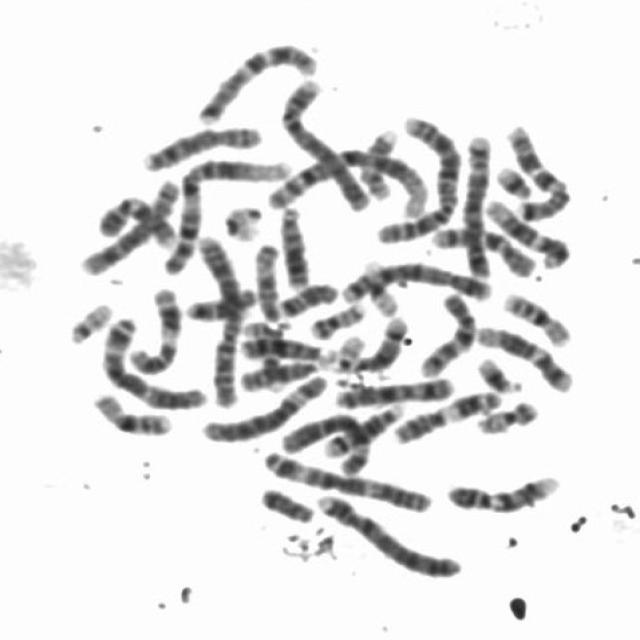A1: (158, 150, 296, 276), (261, 143, 434, 218)
A2: (372, 110, 463, 246), (190, 230, 245, 409)
A3: (256, 444, 434, 514), (95, 311, 212, 411)
B4: (309, 486, 466, 581), (277, 73, 374, 213)
B5: (338, 255, 496, 304), (456, 127, 496, 280)
C10: (426, 219, 538, 278), (412, 286, 480, 378)
C11: (388, 384, 506, 446), (123, 281, 184, 376)
C12: (470, 318, 576, 393), (480, 192, 574, 271)
C6: (194, 368, 330, 444), (275, 408, 372, 478)
C7: (192, 35, 322, 126), (499, 119, 573, 222)
C8: (75, 175, 181, 277), (137, 119, 265, 173)
C9: (441, 468, 564, 516), (92, 191, 180, 248)
D13: (274, 200, 314, 290), (236, 333, 336, 364)
D14: (317, 398, 407, 459), (340, 311, 411, 374)
D15: (234, 353, 323, 393), (249, 238, 285, 323)
E16: (497, 286, 574, 348), (87, 387, 175, 438)
E17: (240, 317, 290, 399), (354, 124, 401, 204)
E18: (182, 282, 260, 323), (271, 276, 340, 318)
F19: (359, 255, 403, 318), (217, 198, 265, 244)
F20: (473, 394, 542, 436), (305, 296, 368, 340)
G21: (471, 351, 526, 394), (490, 160, 534, 201)
G22: (63, 296, 115, 346), (328, 329, 367, 375)
X: (331, 370, 458, 410)
Y: (254, 482, 316, 525)
